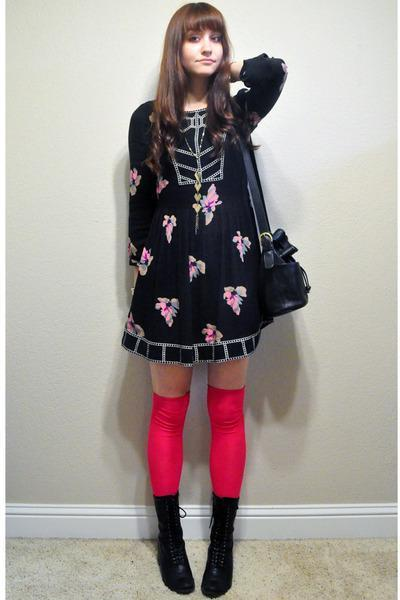dress: (118, 54, 296, 366)
